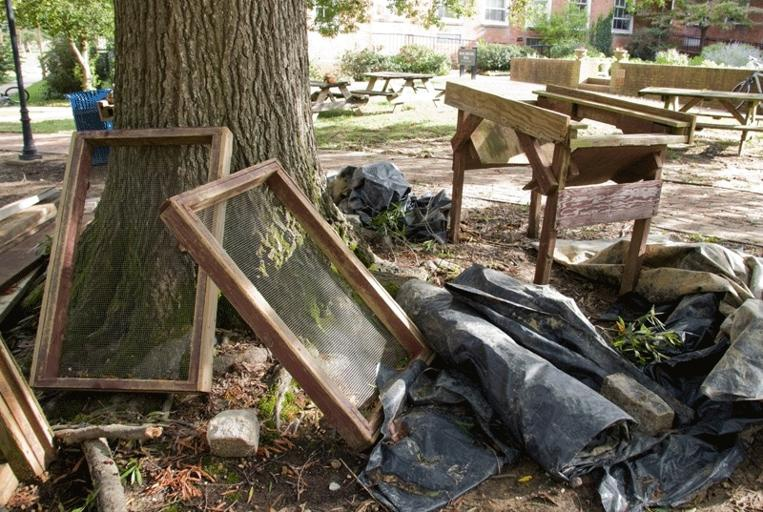non-vehicle: (729, 55, 762, 110), (0, 86, 29, 104)
